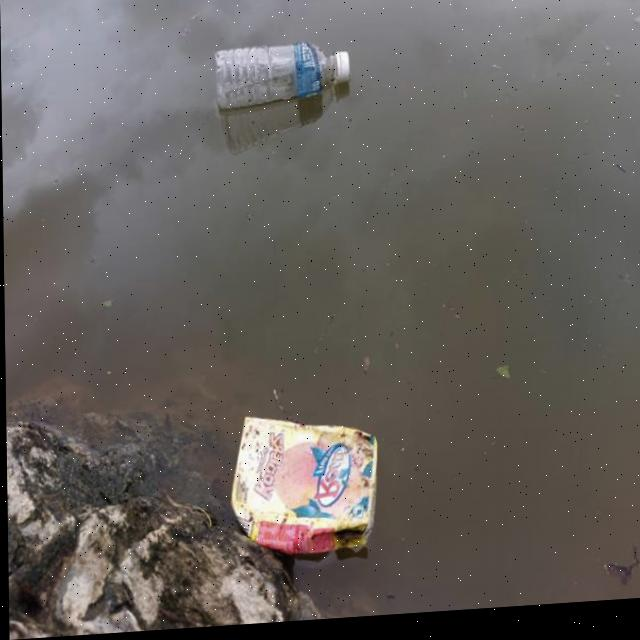paper: (215, 415, 387, 589), (278, 0, 352, 12)
waterbottle: (204, 39, 354, 132)
